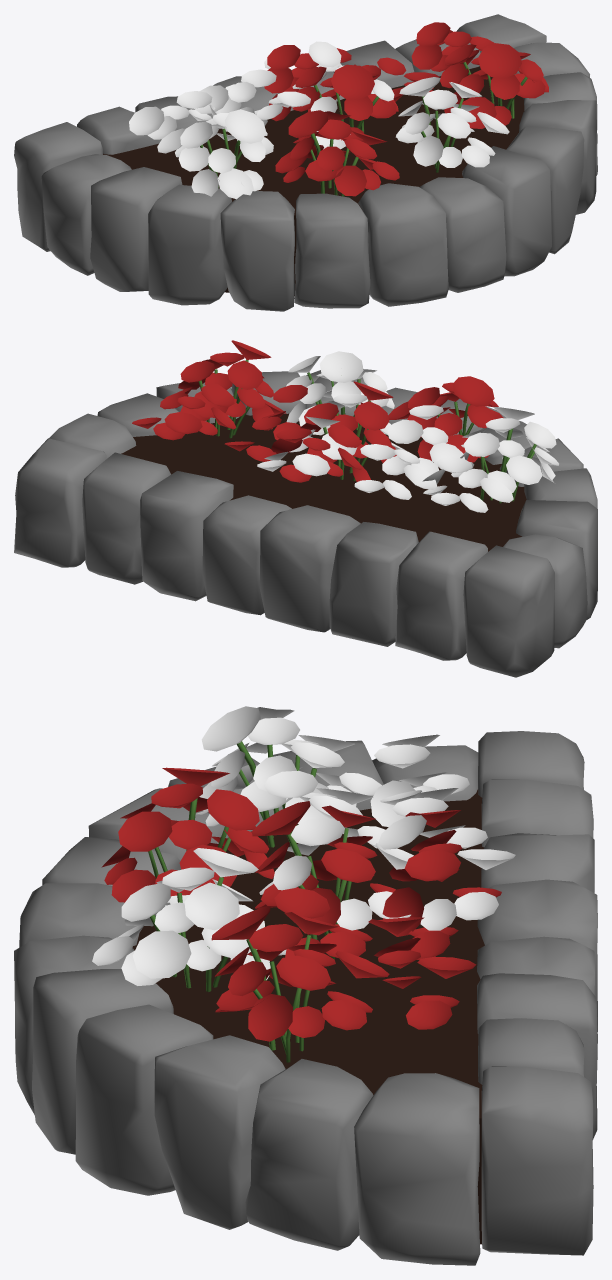
The model's file is SM_flowerbed_03_preset.fbx.
The picture shows the model from 3 angles, top to bottom: view 1: azimuth 30°, elevation 25°; view 2: azimuth 150°, elevation 25°; view 3: azimuth 270°, elevation 25°; orthographic projection. The views are drawn at different scales.
Parts seen in each view (by area): view 1: Object342702; view 2: Object342702; view 3: Object342702.
Boxes of the visible parts, x1,y1,x2,y2 form: Object342702: (14,14,597,311); Object342702: (14,340,597,677); Object342702: (14,706,597,1265).
Bounding box in the file's own units: 101 × 32.04 × 63.5.
